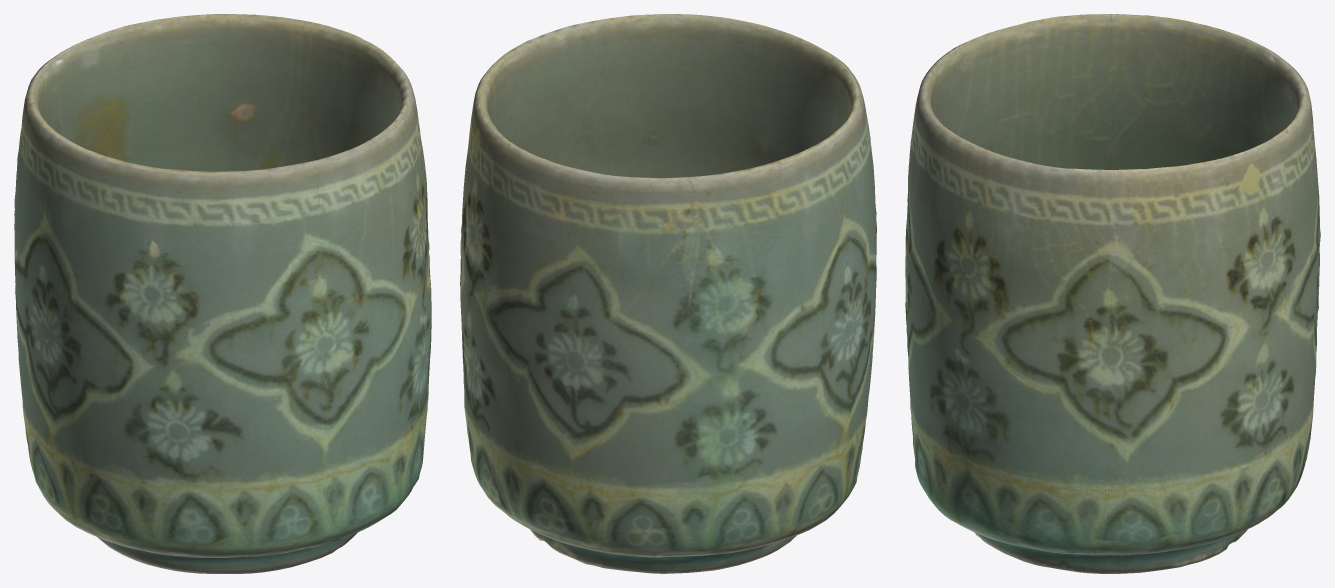
File: celadon-chrysanthemum-cup.glb
3 renders of one model, left to right at view 1: azimuth 30°, elevation 25°; view 2: azimuth 150°, elevation 25°; view 3: azimuth 270°, elevation 25°, orthographic.
Parts seen in each view (by area): view 1: ssu000548-000-30000; view 2: ssu000548-000-30000; view 3: ssu000548-000-30000.
Boxes of the visible parts, bbox=[...] form: ssu000548-000-30000: bbox=[14, 14, 431, 573]; ssu000548-000-30000: bbox=[460, 14, 876, 573]; ssu000548-000-30000: bbox=[905, 14, 1320, 573].
Bounding box in the file's own units: 69.29 × 78.91 × 69.07.
Materials: 1 (1 with a texture image).
